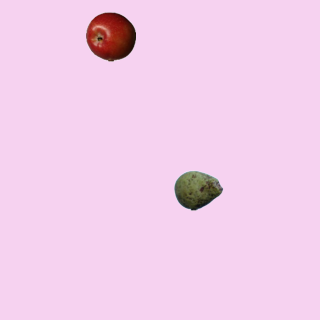Apple Braeburn: (85, 11, 135, 61)
Pear Stone: (173, 165, 223, 215)
